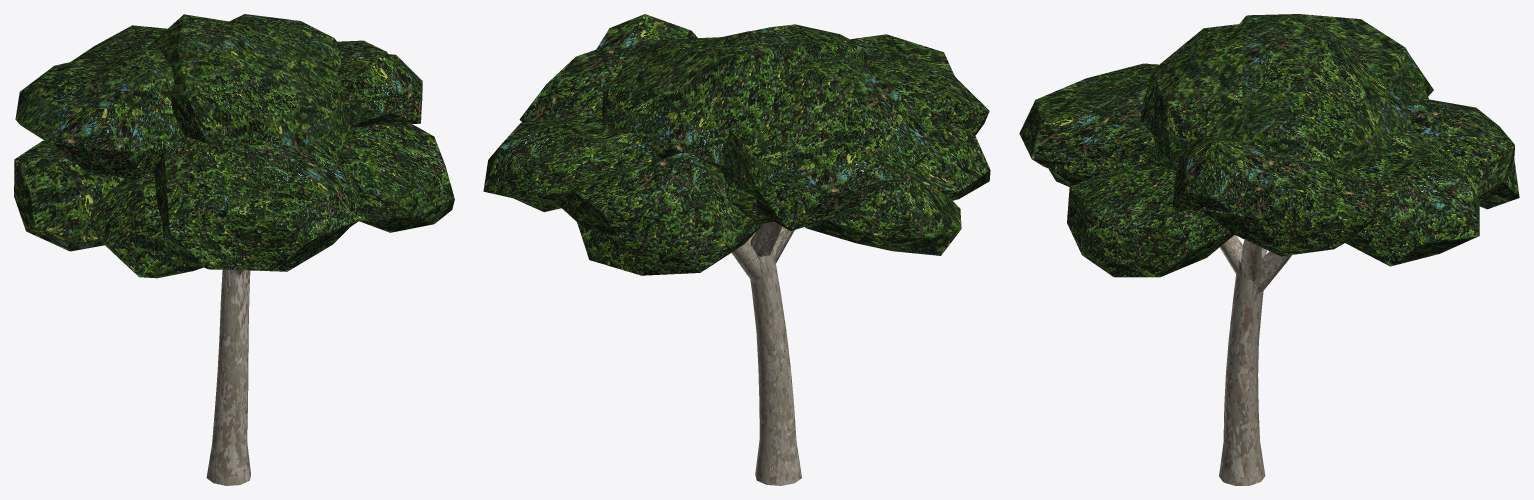
File: Platane_LowPolyB.fbx
The picture shows the model from 3 angles, left to right: view 1: azimuth 30°, elevation 25°; view 2: azimuth 150°, elevation 25°; view 3: azimuth 270°, elevation 25°; orthographic projection. The views are drawn at different scales.
Visible parts, largest first — view 1: Platane_LP_A; view 2: Platane_LP_A; view 3: Platane_LP_A.
Part boxes in pixels (x1,y1,x2,y2): Platane_LP_A: (14, 14, 454, 485); Platane_LP_A: (483, 14, 990, 485); Platane_LP_A: (1019, 14, 1519, 485).
Bounding box in the file's own units: 6.83 × 7.76 × 7.51.
Materials: 2 (2 with a texture image).
